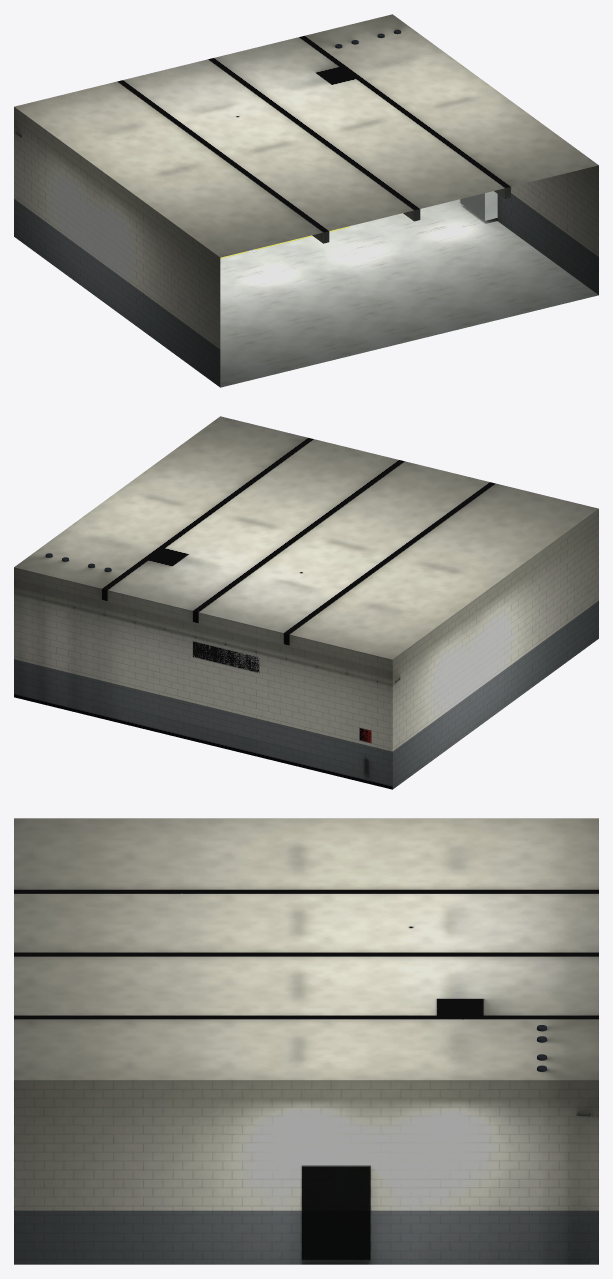
The model's file is uta.glb.
3 renders of one model, top to bottom at view 1: azimuth 30°, elevation 25°; view 2: azimuth 150°, elevation 25°; view 3: azimuth 270°, elevation 25°, orthographic. The views are drawn at different scales.
Parts seen in each view (by area): view 1: Env_Walls, Env_Floor, Prop_QGBT; view 2: Env_Walls; view 3: Env_Walls.
Part boxes in pixels (box(x1,y1,x2,y2)): Env_Walls: box(14, 14, 598, 387); Env_Floor: box(220, 199, 598, 387); Prop_QGBT: box(460, 191, 497, 220); Env_Walls: box(14, 416, 598, 789); Env_Walls: box(14, 818, 598, 1264).
Size of the model in its own units: 12.5 by 4.15 by 11.8.
39 materials, 27 textured.
